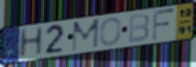2: (44, 22, 67, 57)
B: (127, 12, 151, 44)
F: (151, 7, 177, 42)
H: (17, 25, 45, 60)
M: (70, 17, 101, 53)
O: (98, 16, 123, 47)
